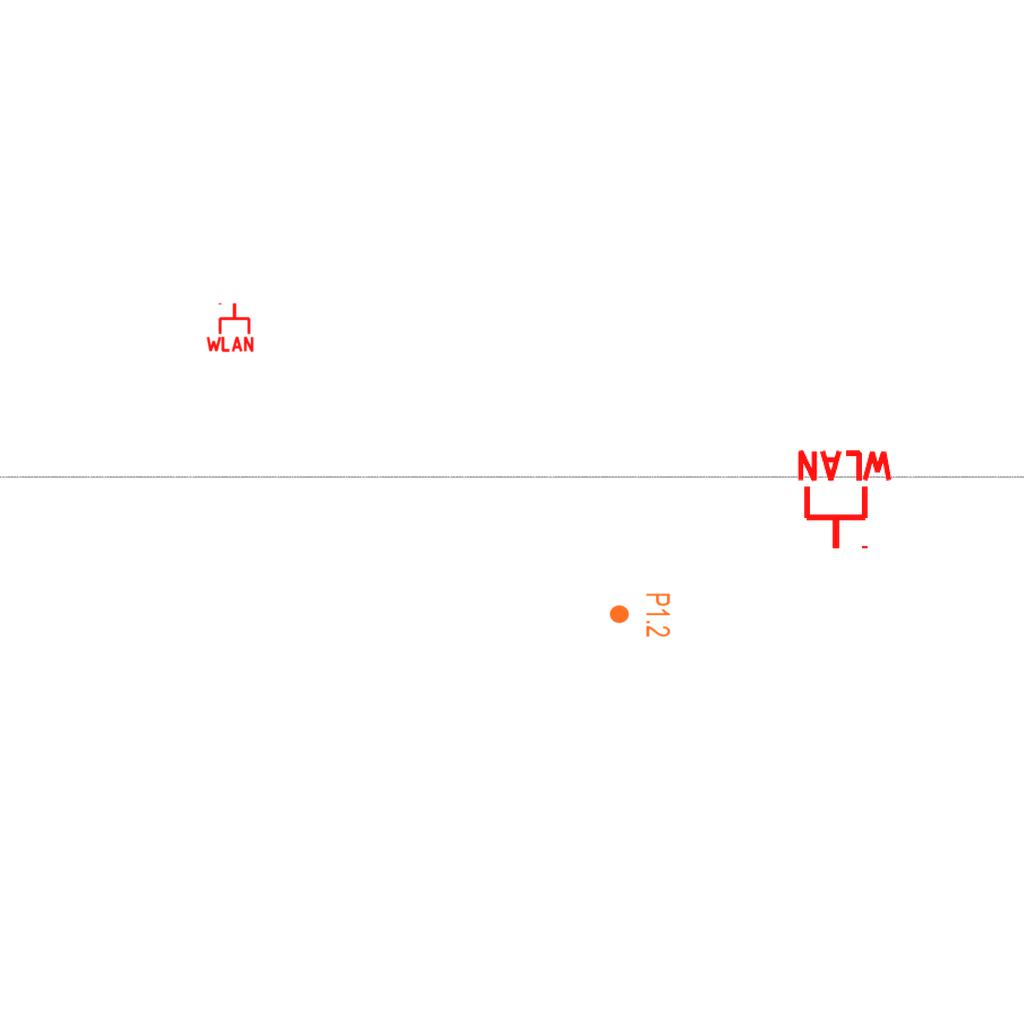Downlight_LED_Einbauleuchten_Flur: (608, 592, 672, 638)
WLAN: (793, 448, 897, 553), (204, 301, 256, 353)
